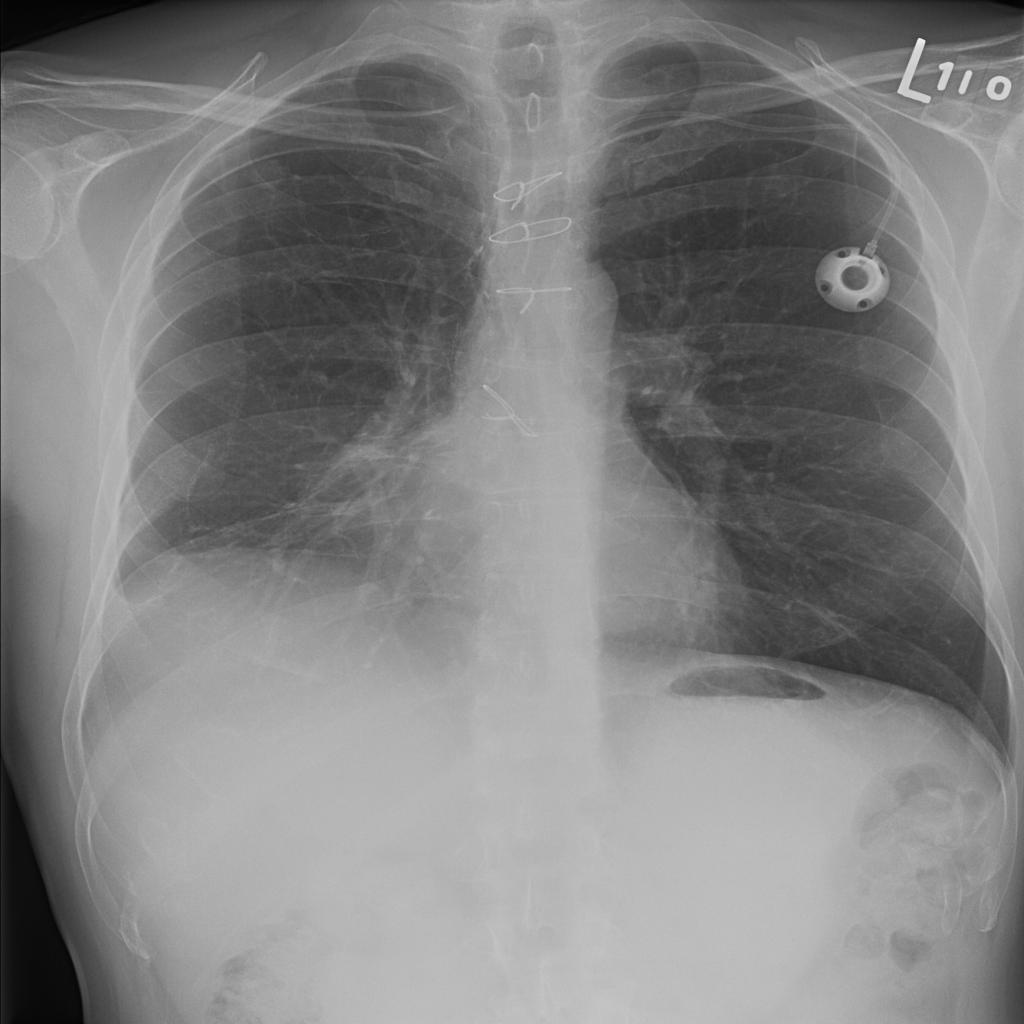Nodule: (141, 76, 179, 101)
